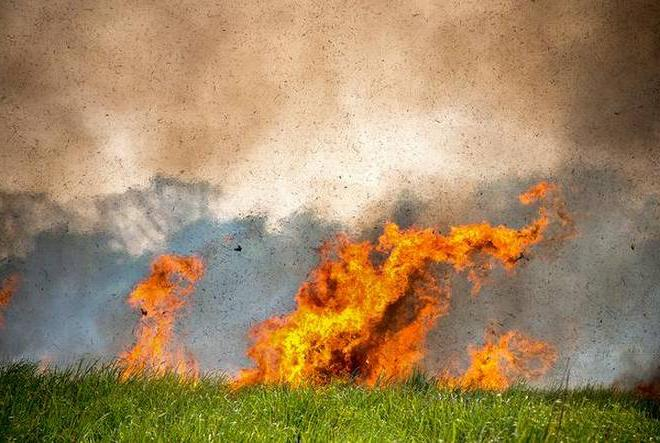fire: (243, 169, 573, 403), (125, 242, 204, 386)
